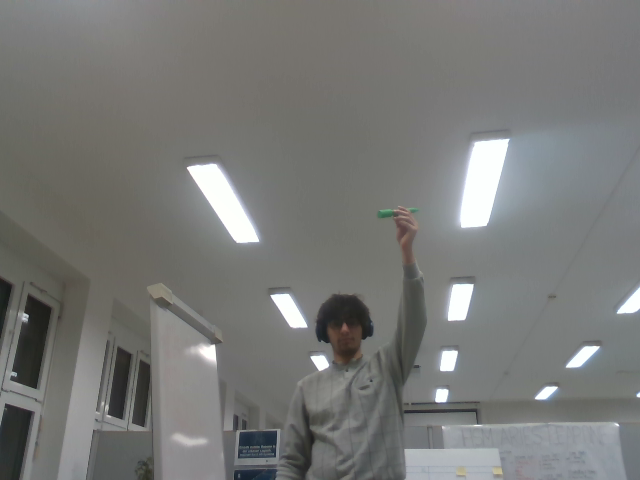Probe: (375, 203, 423, 221)
